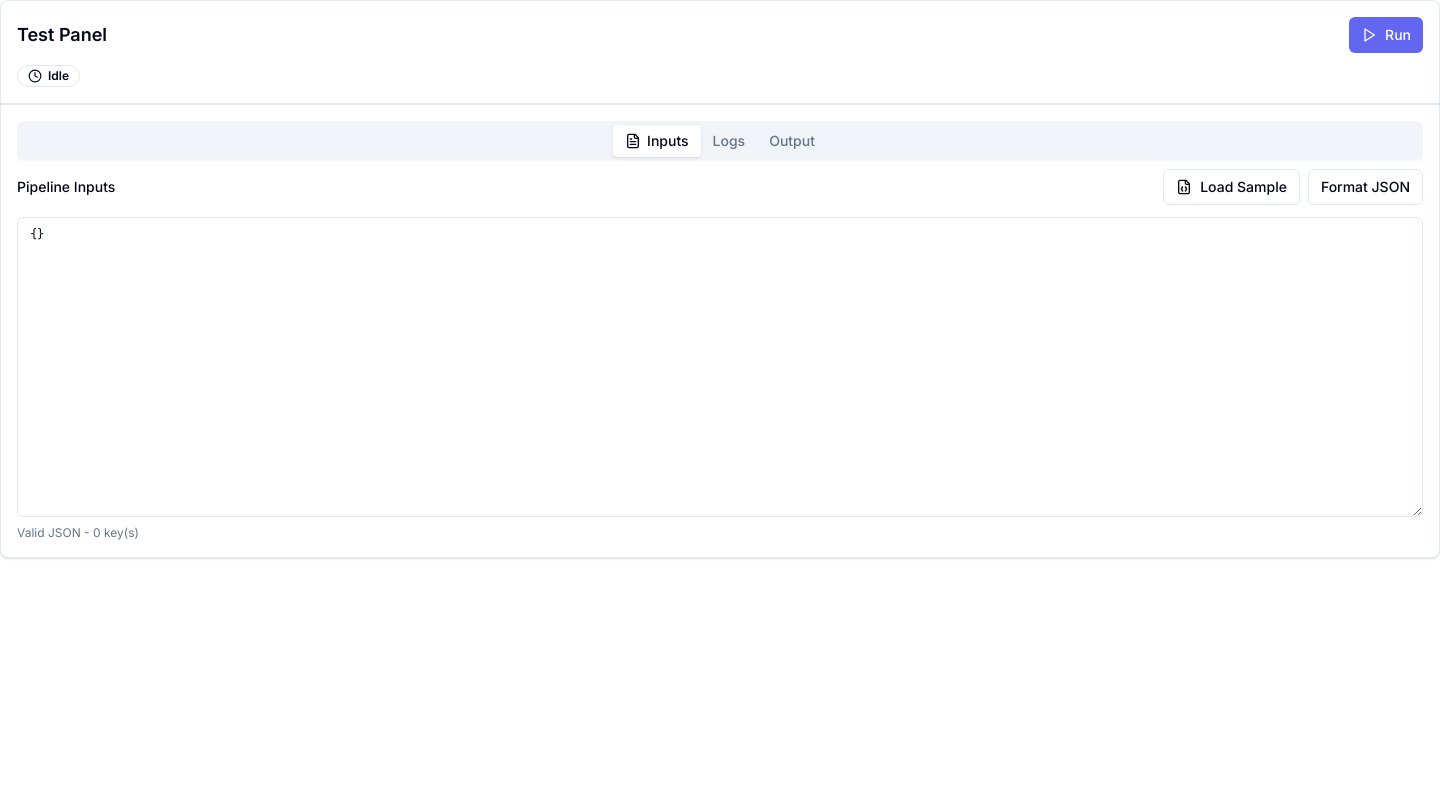
Test: TestPanel › should switch between tabs
# Click Logs tab
Click the tab "Logs". click: click(729, 141)
box: [701,125,757,157]
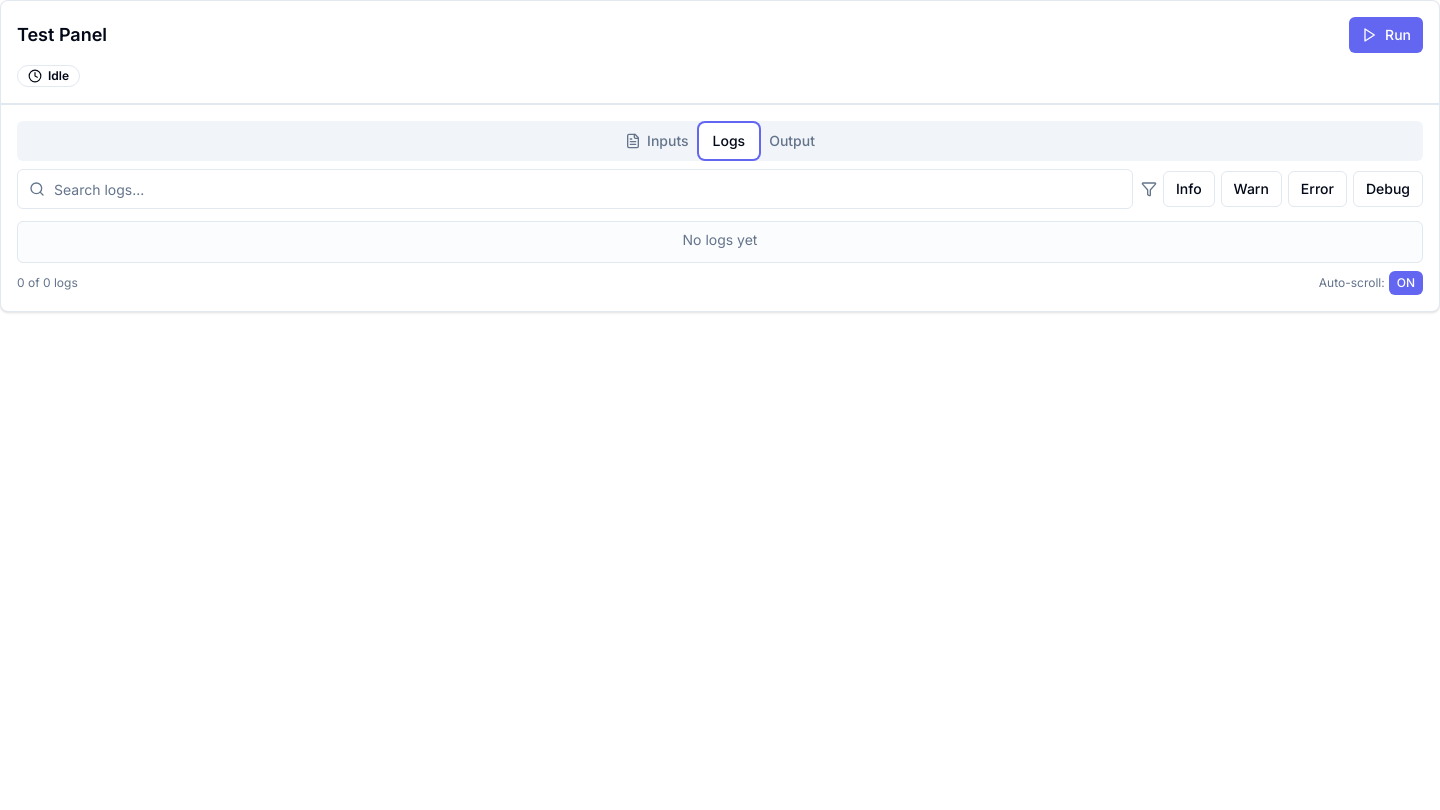
Result: the text "No logs yet" is shown at [682,231,757,248]
# Click Output tab
Click the tab "Output". click: click(792, 141)
box: [757,125,827,157]
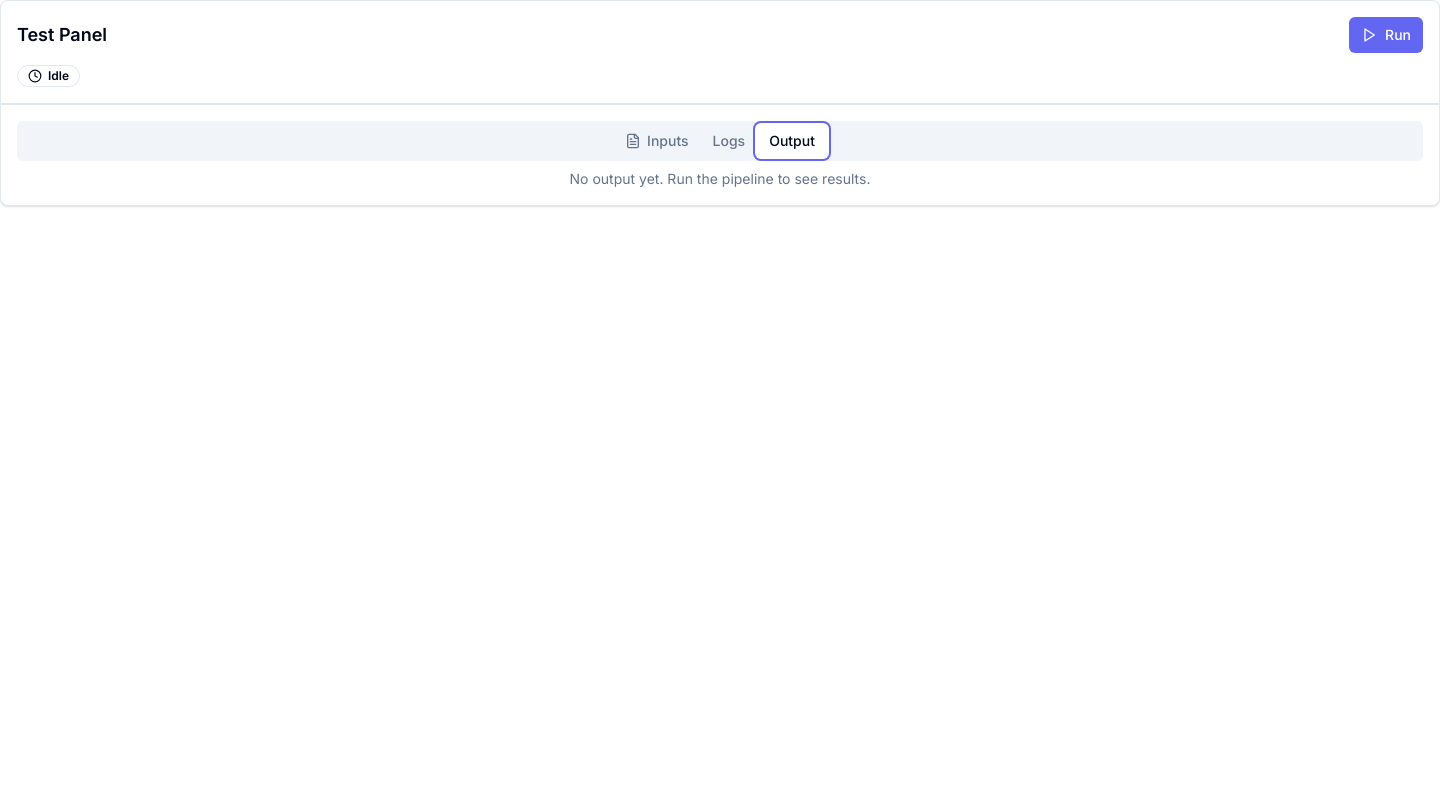
Result: the text "No output yet. Run the pipeline to see results." is shown at [570,170,870,187]
